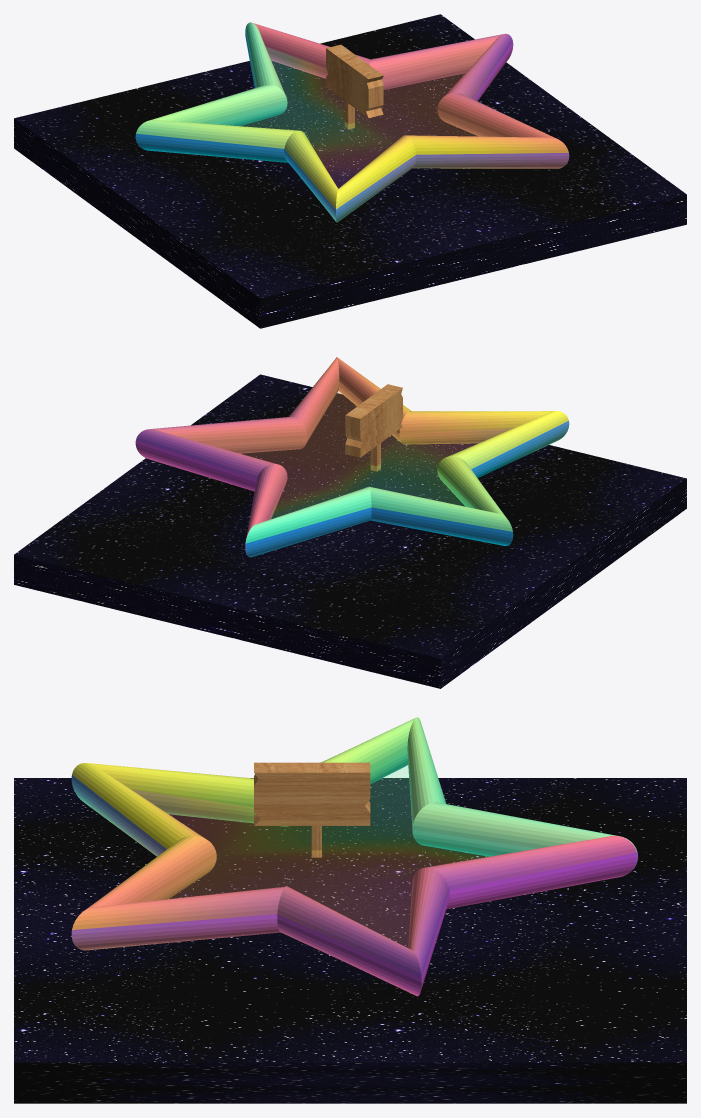
File: entornoEstrella.glb
The picture shows the model from 3 angles, top to bottom: view 1: azimuth 30°, elevation 25°; view 2: azimuth 150°, elevation 25°; view 3: azimuth 270°, elevation 25°; orthographic projection. The views are drawn at different scales.
Visible parts, largest first — view 1: Base, Circle, Centro, Letrero; view 2: Base, Circle, Centro, Letrero; view 3: Base, Circle, Centro, Letrero.
Part boxes in pixels (left/top/right/bottom): Base: left=14, top=14, right=686, bottom=328; Circle: left=135, top=22, right=569, bottom=222; Centro: left=209, top=47, right=503, bottom=188; Letrero: left=326, top=44, right=383, bottom=129; Base: left=14, top=374, right=686, bottom=688; Circle: left=135, top=357, right=569, bottom=557; Centro: left=207, top=381, right=512, bottom=519; Letrero: left=345, top=384, right=402, bottom=471; Base: left=14, top=778, right=686, bottom=1103; Circle: left=71, top=717, right=637, bottom=996; Centro: left=133, top=750, right=535, bottom=947; Letrero: left=254, top=762, right=370, bottom=857.
Size of the model in its own units: 11.41 by 3.51 by 11.41.
Materials: 4 (4 with a texture image).
